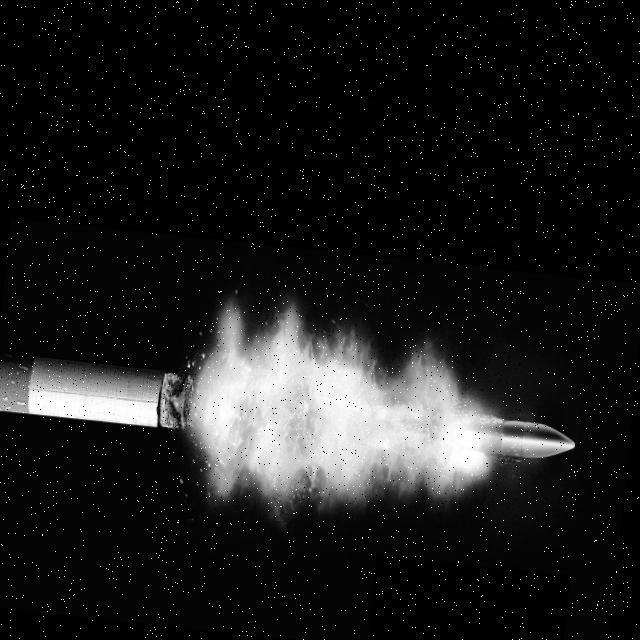cigarette: (0, 347, 201, 437)
